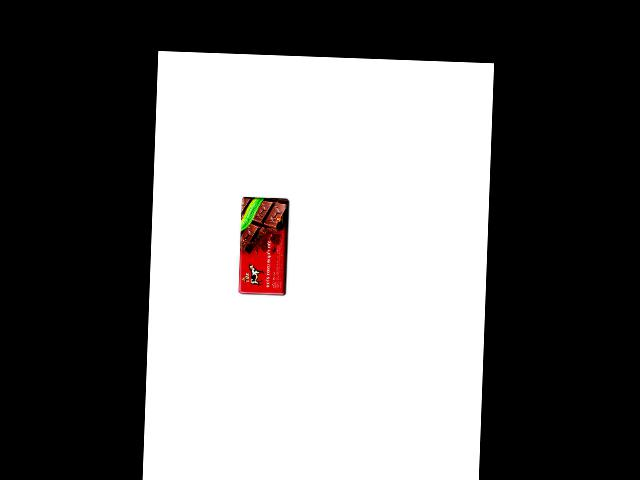chocolate: (236, 196, 293, 298)
